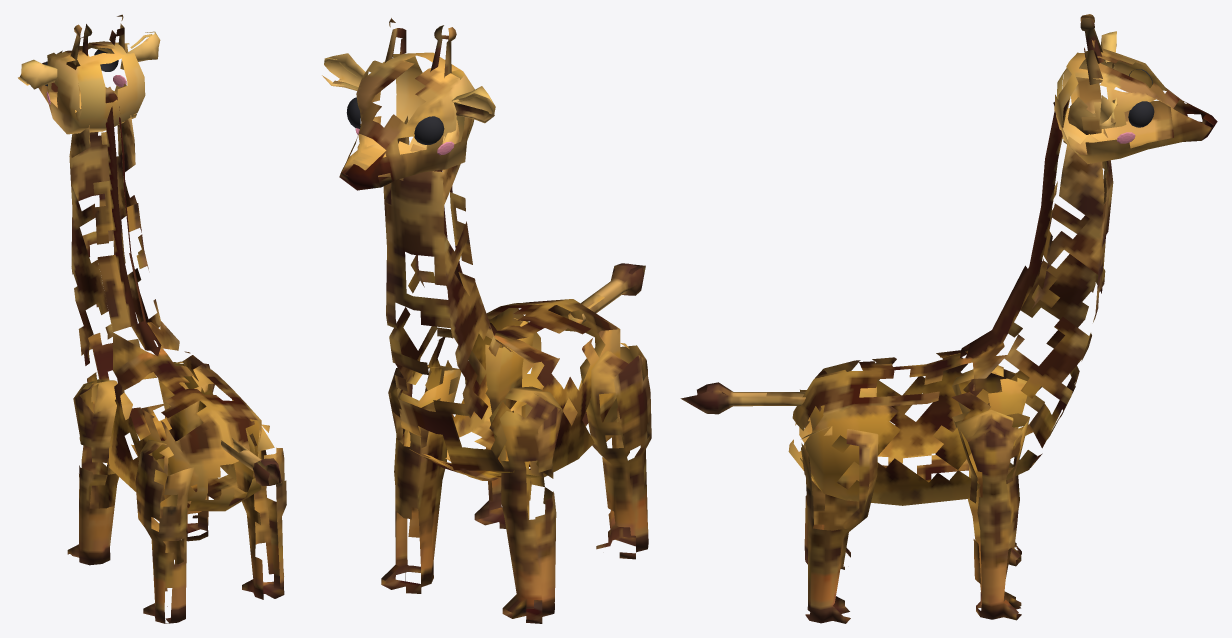
Rendered from Giraffe1_NEW.fbx.
The picture shows the model from 3 angles, left to right: view 1: azimuth 30°, elevation 25°; view 2: azimuth 150°, elevation 25°; view 3: azimuth 270°, elevation 25°; orthographic projection. The views are drawn at different scales.
Parts seen in each view (by area): view 1: Giraffe1_NEW.001; view 2: Giraffe1_NEW.001, Giraffe1_NEW_Eyes; view 3: Giraffe1_NEW.001.
Boxes of the visible parts, bbox=[...] form: Giraffe1_NEW.001: bbox=[18, 14, 286, 623]; Giraffe1_NEW.001: bbox=[322, 18, 651, 623]; Giraffe1_NEW_Eyes: bbox=[346, 97, 444, 144]; Giraffe1_NEW.001: bbox=[680, 14, 1217, 623].
Bounding box in the file's own units: 467 × 1500 × 1297.
Materials: 3 (1 with a texture image).
